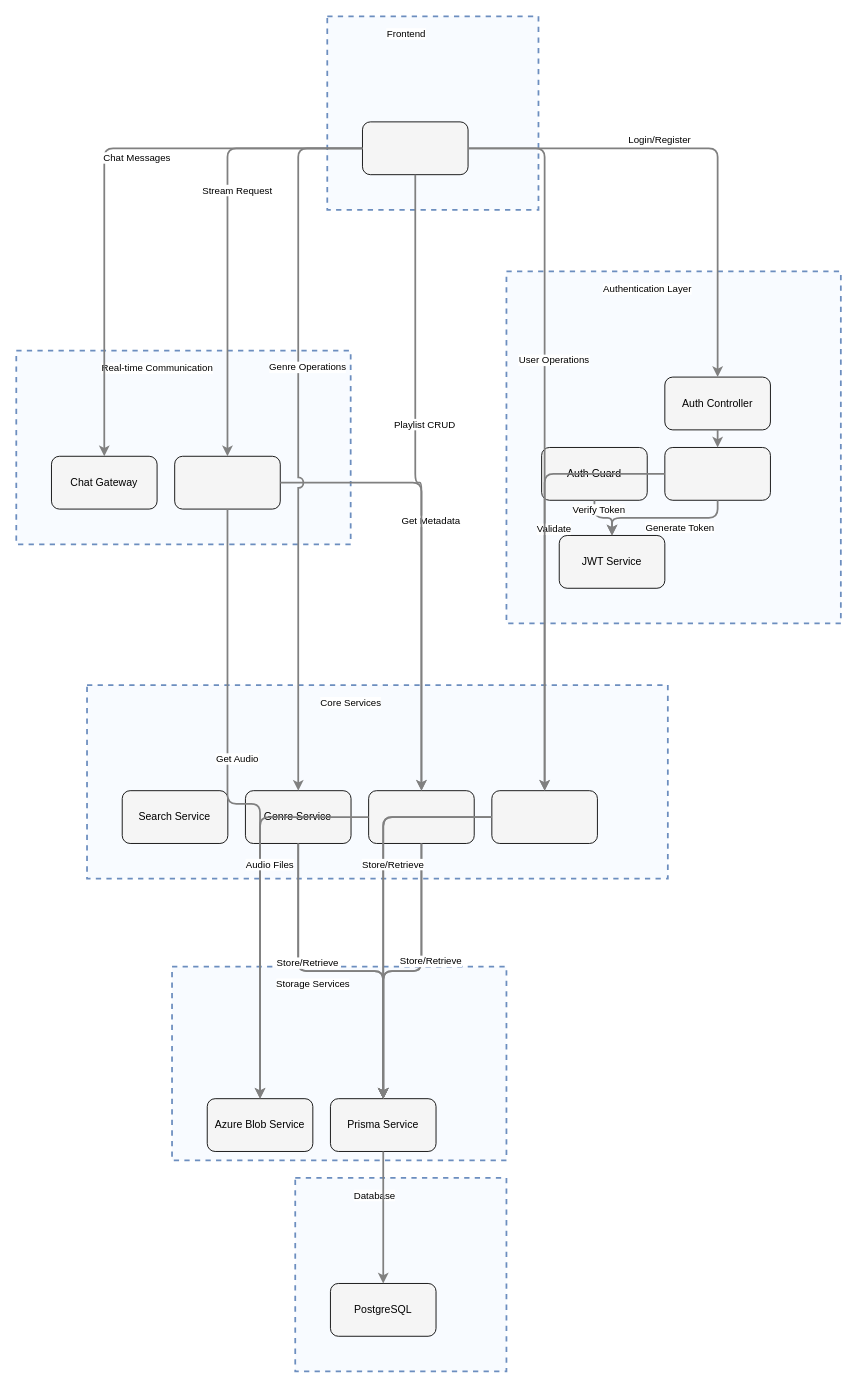
This 856x1387 diagram has some shape labels left out. The centre of each missing label's shape, as x and y in pixels:
"Auth Service" goes at point (717, 473).
"Client Application" goes at point (415, 148).
"Playlist Service" goes at point (421, 816).
"Streaming Gateway" goes at point (227, 482).
"User Service" goes at point (544, 816).
